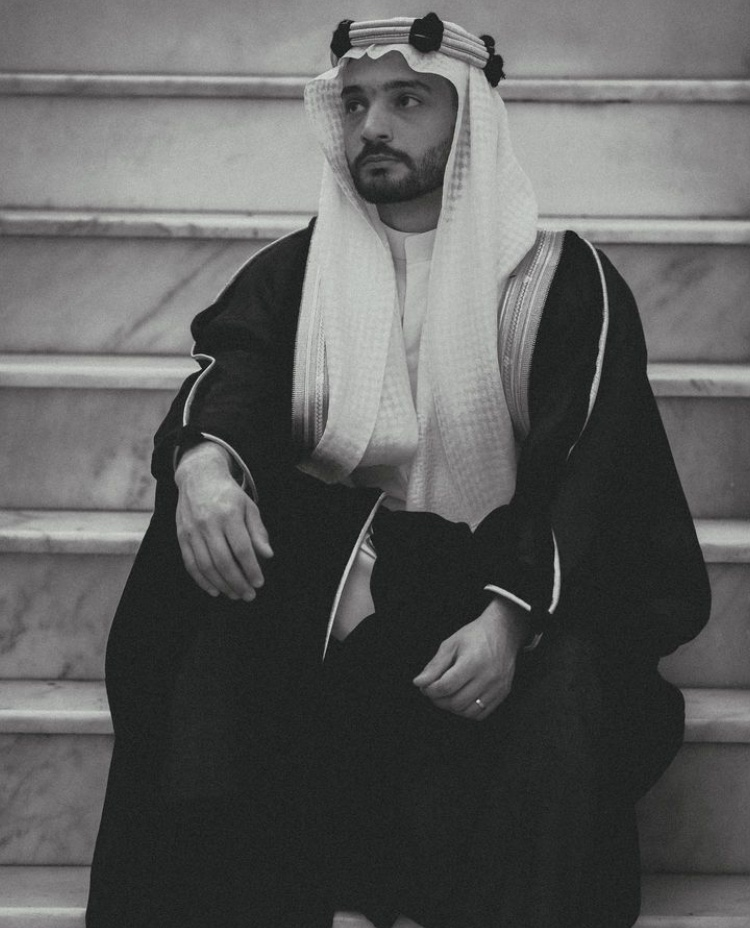Saudi_Founding_Day: (84, 11, 716, 925)
